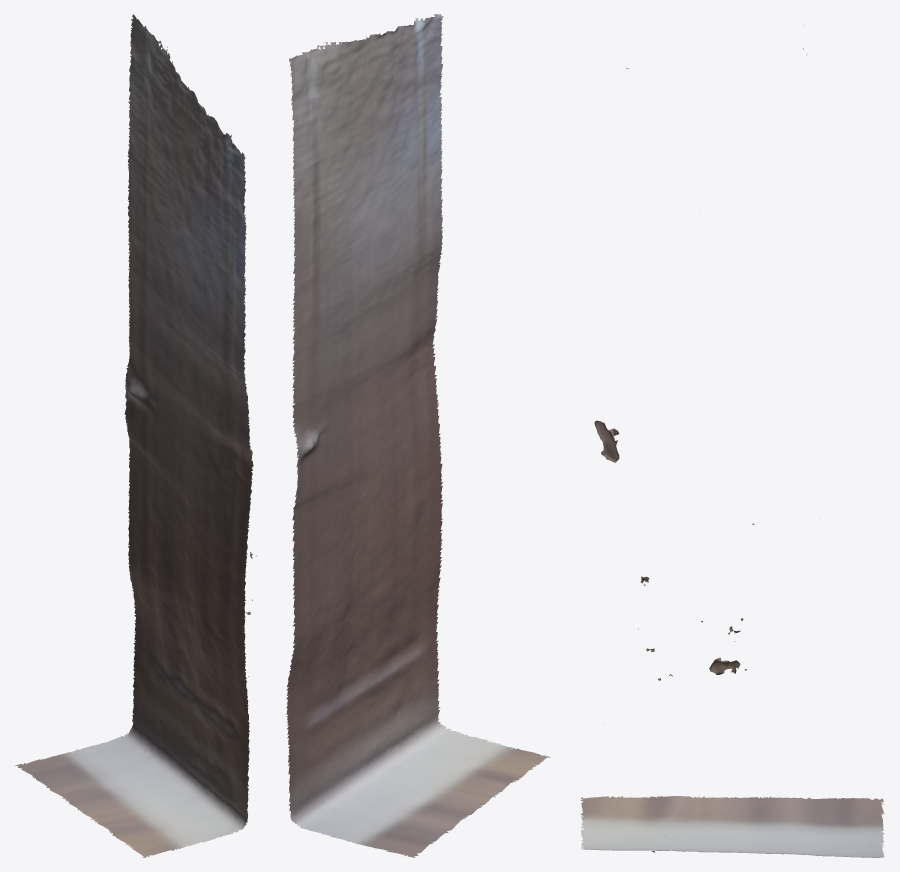
The model's file is apartment-full-125-78e4dc607227.glb.
3 renders of one model, left to right at view 1: azimuth 30°, elevation 25°; view 2: azimuth 150°, elevation 25°; view 3: azimuth 270°, elevation 25°, orthographic. The views are drawn at different scales.
Bounding box in the file's own units: 0.441 × 2.21 × 0.7.
